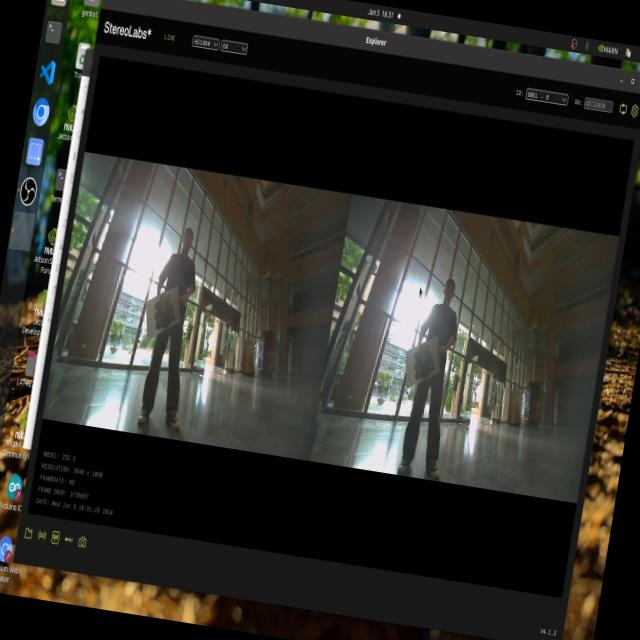green: (403, 330, 444, 378), (153, 285, 180, 333)
